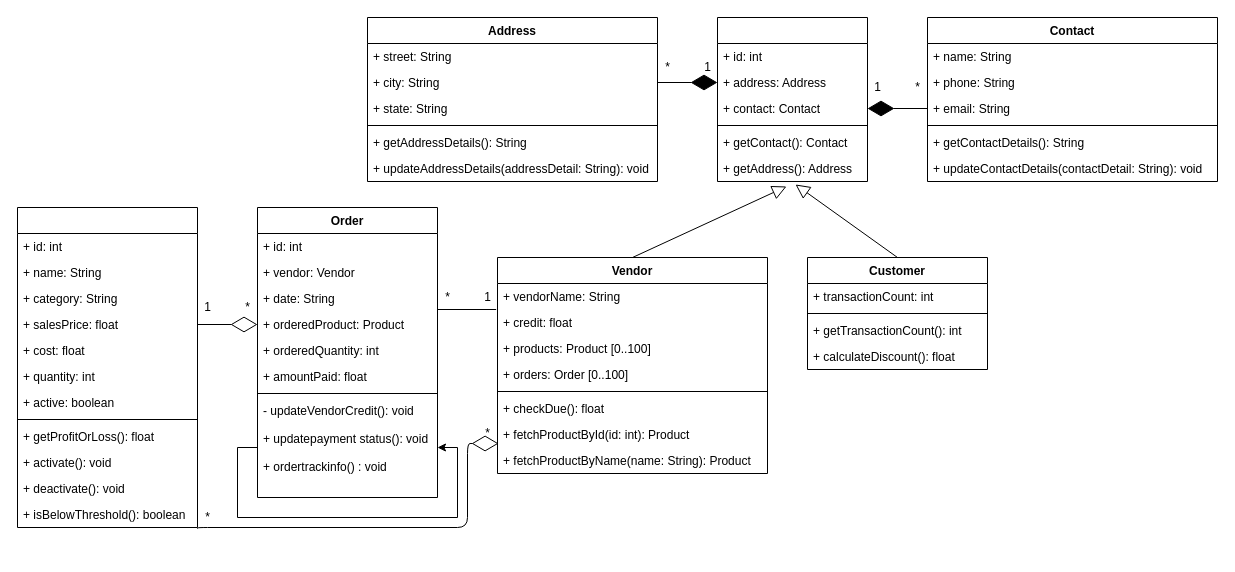
The diagram is 1235 pixels wide and 572 high, and some of its shapes have lost their labels. The shapes that lost their labels are listed below. From the top down, each one's box as (x1, y1, x2, y2) in pixels, then its label:
(716, 16, 868, 182): BusinessPartner
(16, 206, 198, 528): Product
